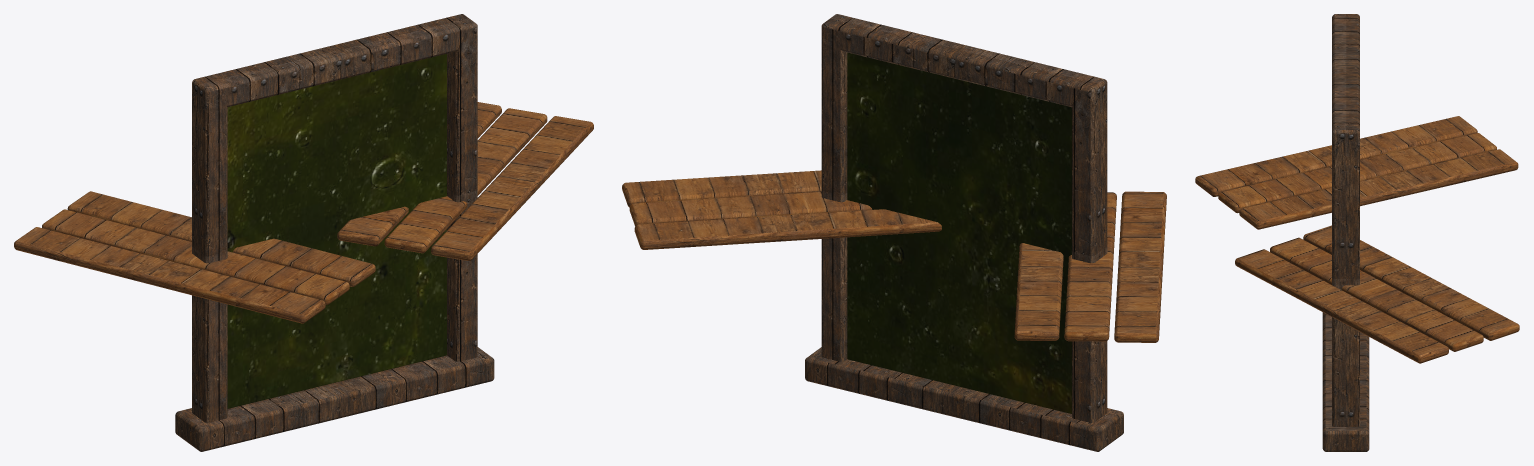
Rendered from shuttered-window-v01.glb.
The picture shows the model from 3 angles, left to right: view 1: azimuth 30°, elevation 25°; view 2: azimuth 150°, elevation 25°; view 3: azimuth 270°, elevation 25°; orthographic projection. The views are drawn at different scales.
Parts seen in each view (by area): view 1: shuttered-window; view 2: shuttered-window; view 3: shuttered-window.
Part boxes in pixels (bbox=[...]): shuttered-window: bbox=[14, 14, 593, 451]; shuttered-window: bbox=[622, 14, 1166, 451]; shuttered-window: bbox=[1195, 14, 1519, 451].
Bounding box in the file's own units: 2.45 × 1.5 × 1.39.
Materials: 3 (3 with a texture image).
